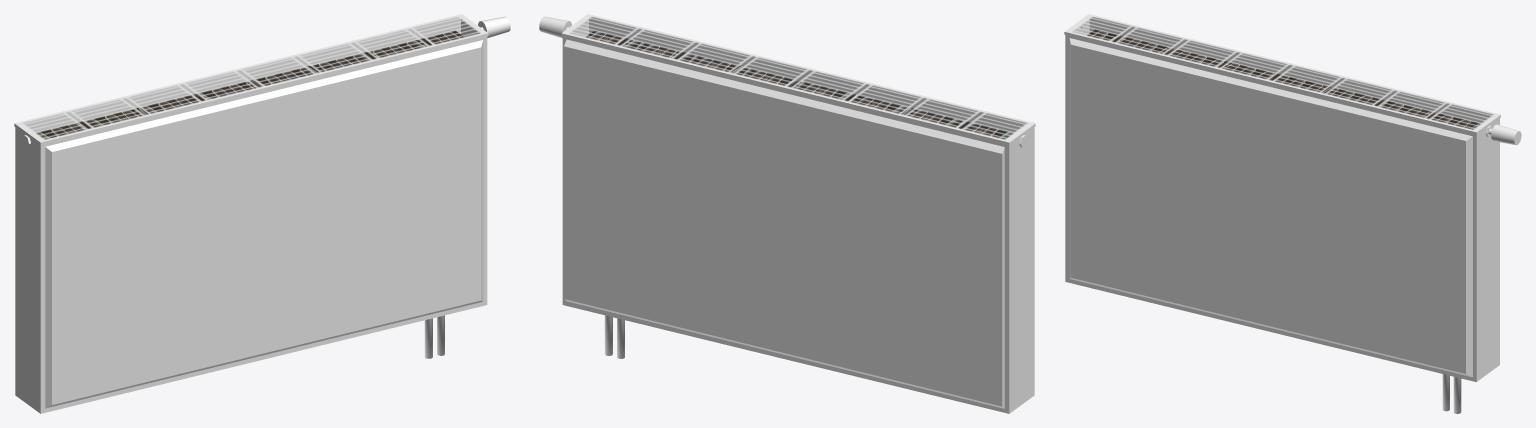
Rendered from heating-radiator-i-low-poly---game-ready-456594.glb.
3 renders of one model, left to right at view 1: azimuth 30°, elevation 25°; view 2: azimuth 150°, elevation 25°; view 3: azimuth 330°, elevation 25°, orthographic. The views are drawn at different scales.
Parts seen in each view (by area): view 1: PropMesh; view 2: PropMesh; view 3: PropMesh.
Part boxes in pixels (x1=…): PropMesh: x1=14, y1=14, x2=510, y2=413; PropMesh: x1=539, y1=14, x2=1035, y2=413; PropMesh: x1=1064, y1=14, x2=1521, y2=413.
Size of the model in its own units: 0.9365 by 0.6 by 0.1036.
2 materials, 2 textured.
